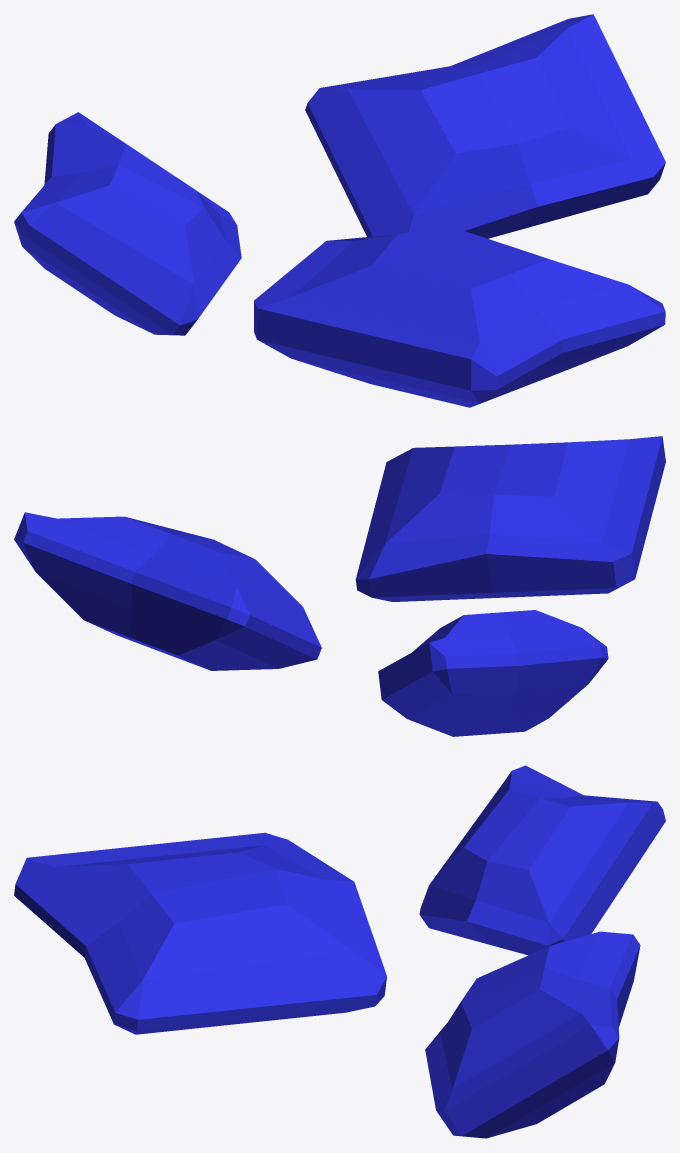
The model's file is pillows.fbx.
The picture shows the model from 3 angles, top to bottom: view 1: azimuth 30°, elevation 25°; view 2: azimuth 150°, elevation 25°; view 3: azimuth 270°, elevation 25°; orthographic projection. The views are drawn at different scales.
Parts seen in each view (by area): view 1: pillow2, pillow 3, pillow1; view 2: pillow 3, pillow2, pillow1; view 3: pillow 3, pillow2, pillow1.
Part boxes in pixels (box(x1,y1,x2,y2)): pillow2: box(305, 14, 665, 238); pillow 3: box(254, 226, 665, 407); pillow1: box(14, 112, 241, 335); pillow 3: box(355, 436, 665, 601); pillow2: box(14, 512, 321, 670); pillow1: box(378, 610, 608, 736); pillow 3: box(14, 832, 386, 1034); pillow2: box(425, 931, 640, 1138); pillow1: box(419, 765, 665, 955).
Bounding box in the file's own units: 405 × 93.9 × 388.
